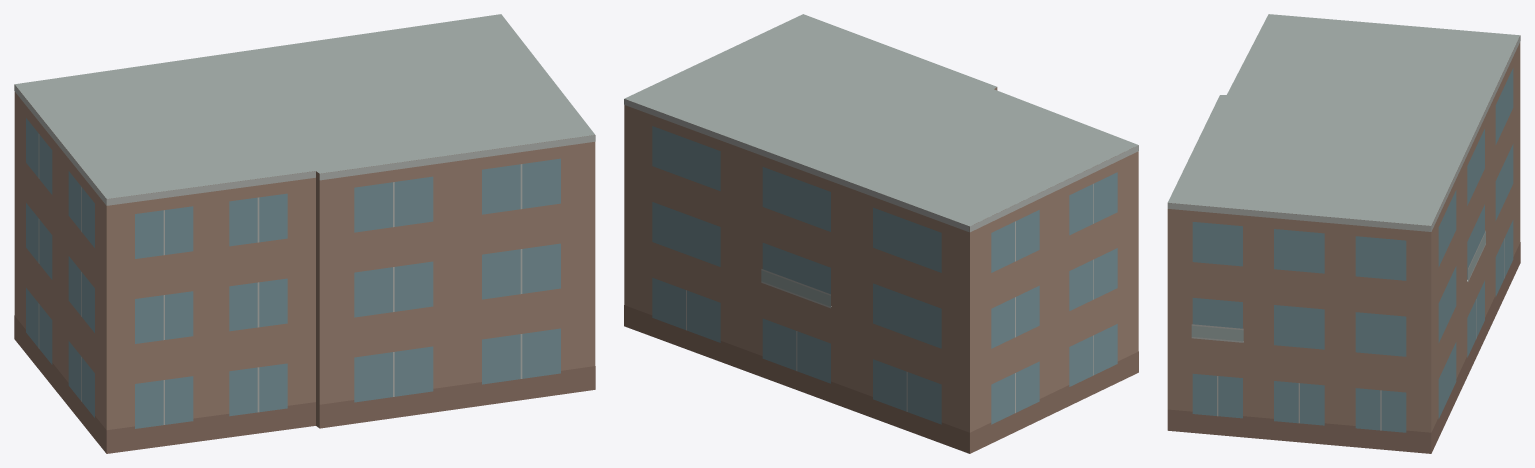
Rendered from survey-upis-32541233.glb.
3 views of the same model, side by side, from view 1: azimuth 30°, elevation 25°; view 2: azimuth 150°, elevation 25°; view 3: azimuth 270°, elevation 25° (orthographic). The views are drawn at different scales.
Parts seen in each view (by area): view 1: survey-upis-32541233.tmp; view 2: survey-upis-32541233.tmp; view 3: survey-upis-32541233.tmp.
Boxes of the visible parts, x1,y1,x2,y2 form: survey-upis-32541233.tmp: (14, 14, 595, 453); survey-upis-32541233.tmp: (624, 14, 1138, 453); survey-upis-32541233.tmp: (1167, 14, 1520, 453).
Size of the model in its own units: 18.26 by 9.15 by 12.84.
